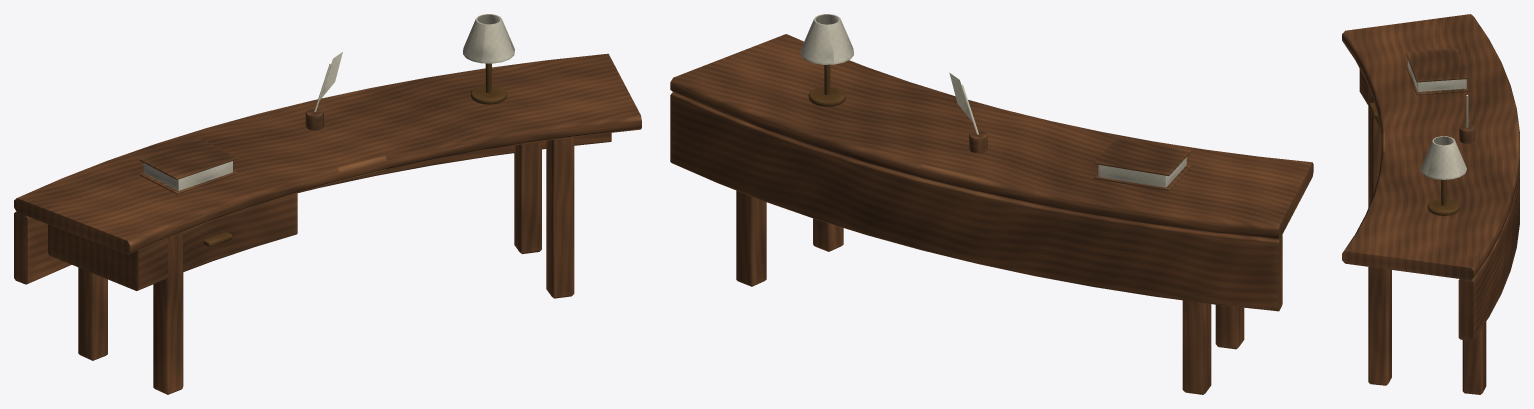
The model's file is Furn_Desk_Arc.fbx.
3 renders of one model, left to right at view 1: azimuth 30°, elevation 25°; view 2: azimuth 150°, elevation 25°; view 3: azimuth 270°, elevation 25°, orthographic. The views are drawn at different scales.
Parts seen in each view (by area): view 1: Furn_Desk_Arc; view 2: Furn_Desk_Arc; view 3: Furn_Desk_Arc.
Part boxes in pixels (box(x1,y1,x2,y2)): Furn_Desk_Arc: box(14, 14, 641, 394); Furn_Desk_Arc: box(670, 14, 1313, 394); Furn_Desk_Arc: box(1342, 14, 1519, 394).
Size of the model in its own units: 2.62 by 1.08 by 0.7719.
Materials: 4 (3 with a texture image).
